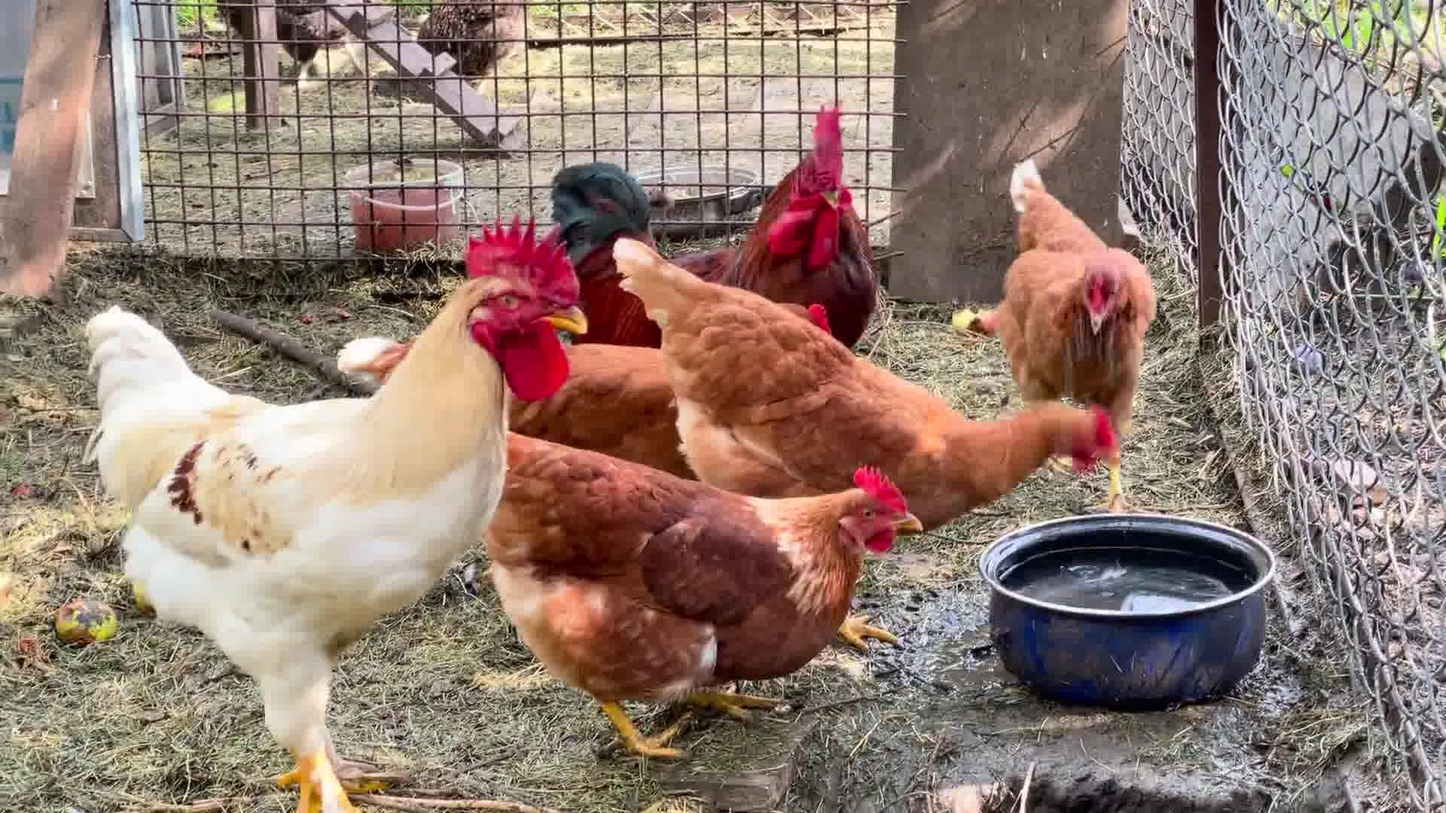Normal: (78, 209, 585, 812), (614, 239, 1111, 544), (501, 424, 927, 758), (545, 104, 888, 358), (981, 151, 1198, 517)
